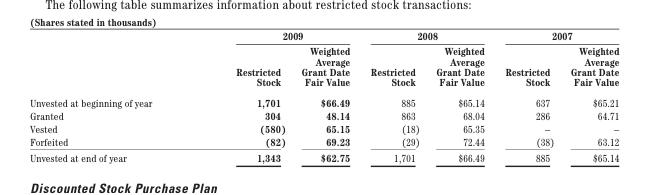table: (29, 29, 618, 163)
table column: (29, 29, 193, 163), (193, 29, 292, 163), (359, 29, 427, 163), (292, 29, 359, 163), (427, 29, 494, 163), (494, 29, 561, 163), (561, 29, 618, 163)
table column header: (29, 29, 618, 91)
table row: (29, 42, 618, 91), (29, 91, 618, 108), (29, 134, 618, 149), (29, 149, 618, 163), (29, 29, 618, 42), (29, 108, 618, 121), (29, 121, 618, 134)
table spanning cell: (193, 29, 359, 42), (359, 29, 494, 42), (494, 29, 618, 42)
